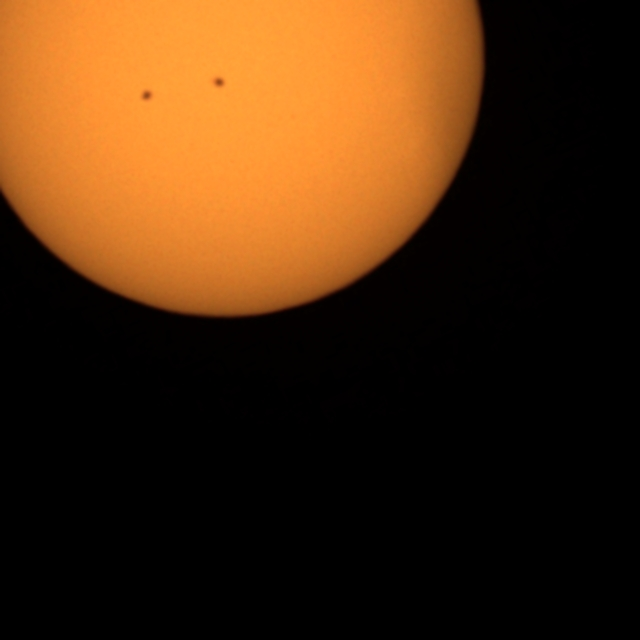sunspot: (138, 87, 156, 105), (210, 74, 228, 92)
